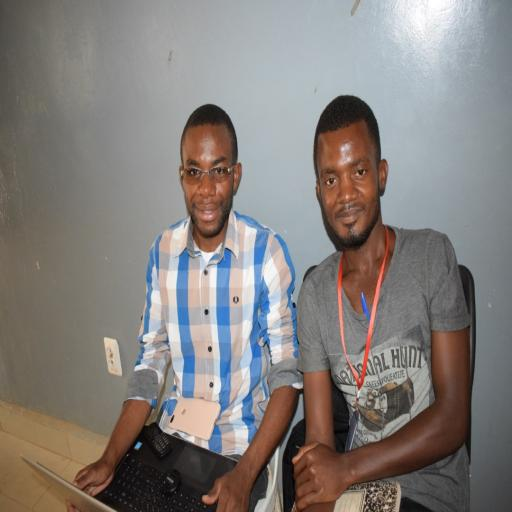MATTHIEU: (310, 97, 392, 264)
